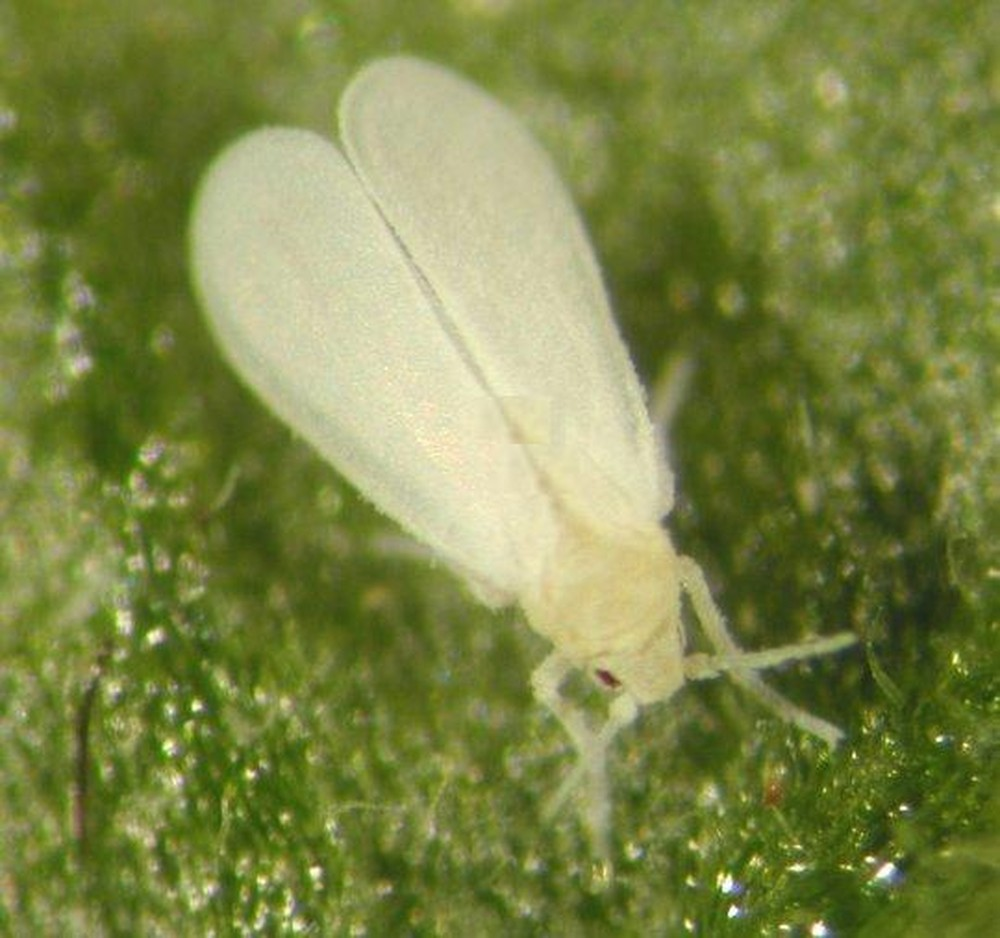Mosca Blanca: (172, 41, 873, 866)
